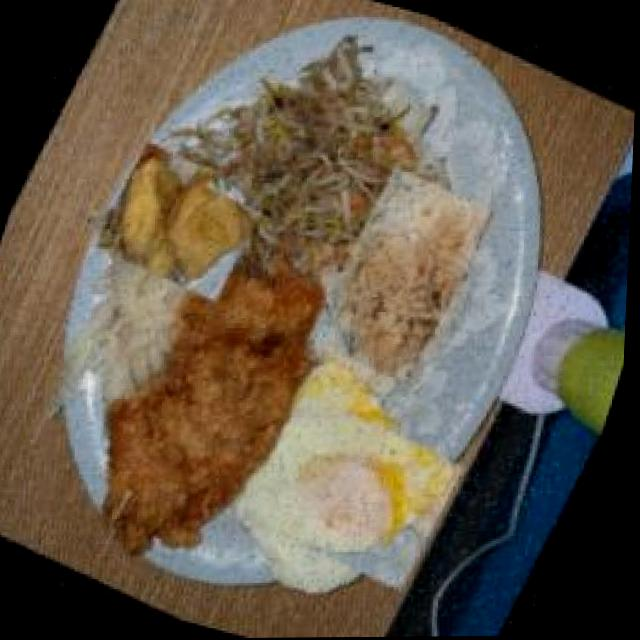chicken_nuggets: (87, 136, 278, 310)
fried_chicken: (59, 221, 365, 598)
fried_eggs: (204, 352, 471, 612)
mung_bean_sprouts: (202, 57, 428, 277)
rice: (301, 157, 502, 396)
